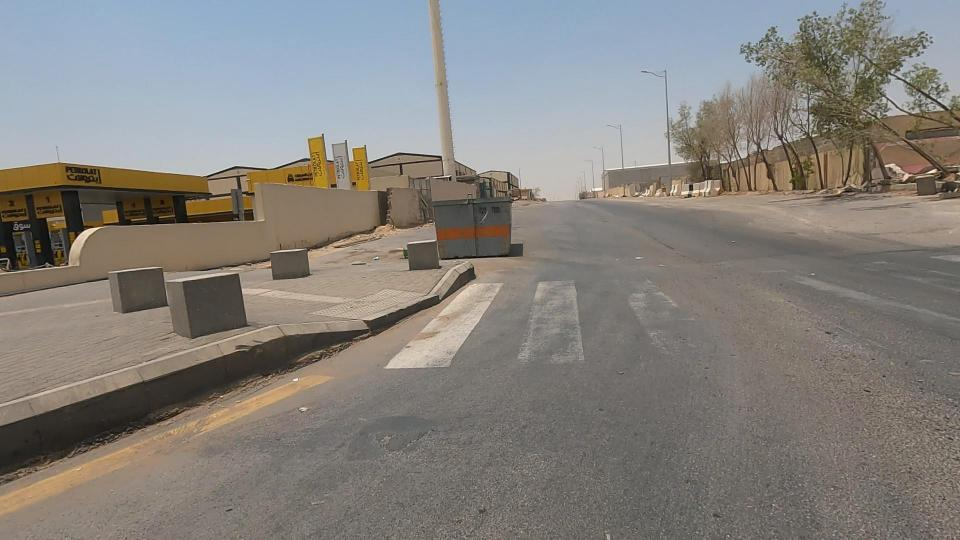GARBAGE: (829, 147, 959, 201)
SAND_ON_ROAD: (333, 198, 432, 262)
